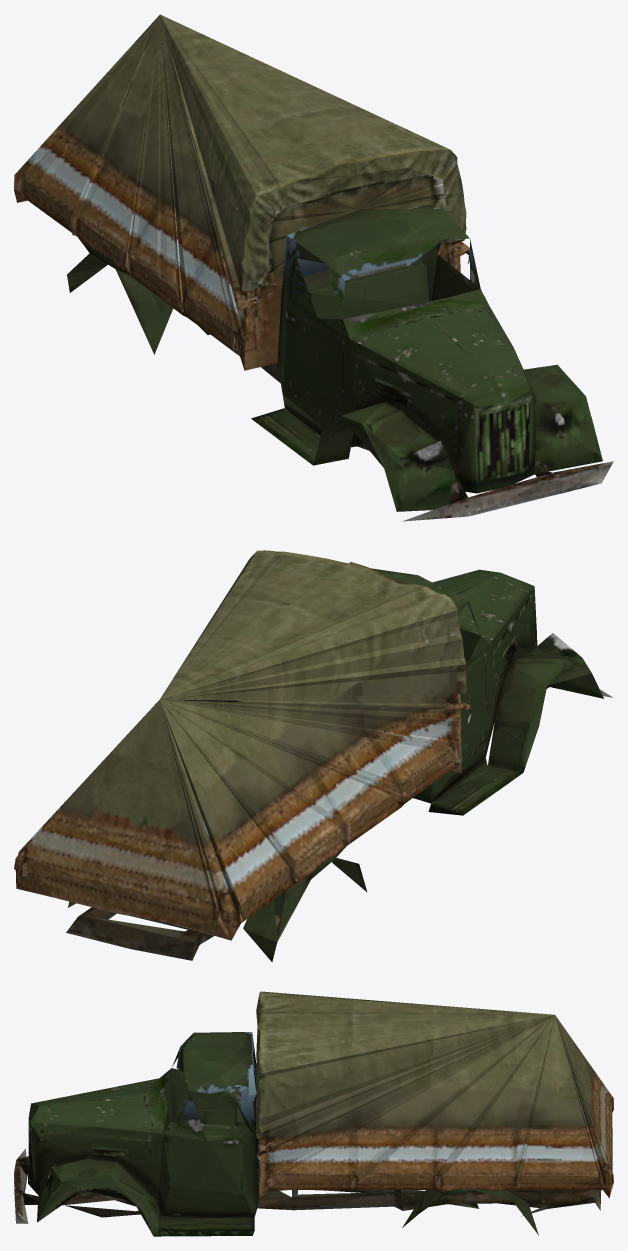
The model's file is truck.obj.
3 renders of one model, top to bottom at view 1: azimuth 30°, elevation 25°; view 2: azimuth 150°, elevation 25°; view 3: azimuth 270°, elevation 25°, orthographic. The views are drawn at different scales.
Size of the model in its own units: 0.3399 by 0.3499 by 0.9913.
1 material, 1 textured.
